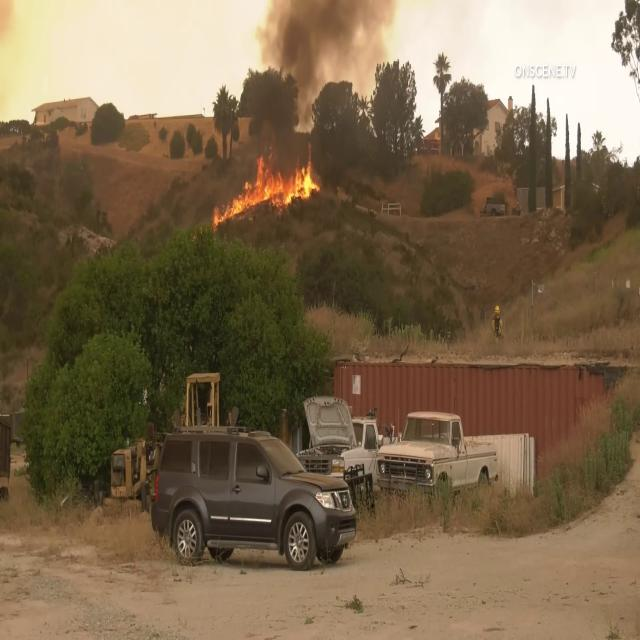fire: (208, 150, 328, 229)
smoke: (278, 0, 353, 89)
